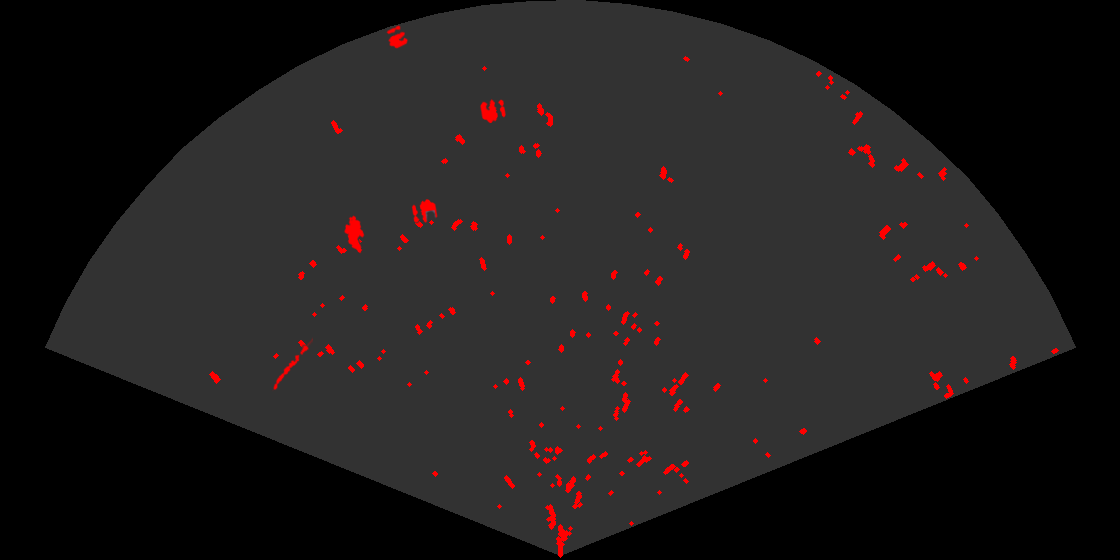AUV: (342, 214, 366, 255)
ball: (479, 97, 507, 125), (410, 198, 439, 224), (385, 24, 410, 50)
chain: (271, 337, 313, 392)
